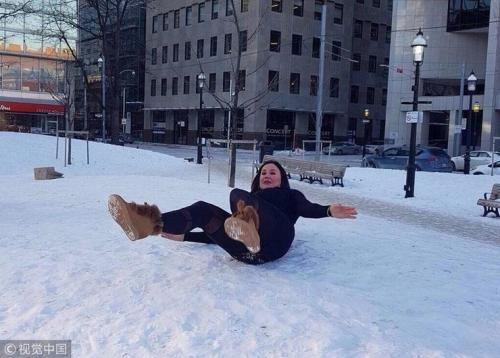down: (103, 158, 359, 268)
